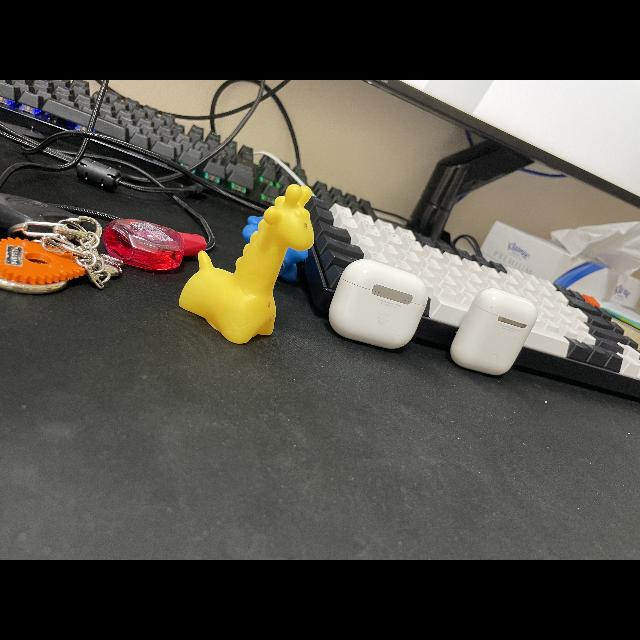airpod2: (445, 281, 543, 381)
airpod3: (328, 248, 428, 354)
